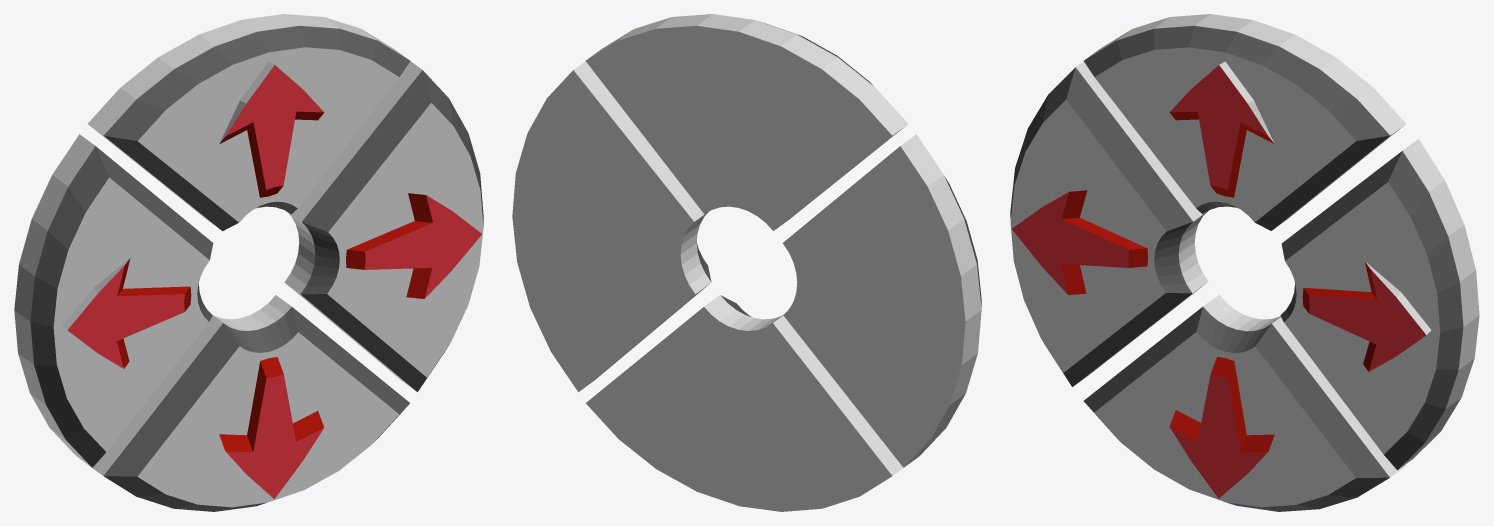
The model's file is Direction_red.fbx.
3 views of the same model, side by side, from view 1: azimuth 30°, elevation 25°; view 2: azimuth 150°, elevation 25°; view 3: azimuth 330°, elevation 25° (orthographic).
Visible parts, largest first — view 1: 平面; view 2: 平面; view 3: 平面.
Boxes of the visible parts, box(x1,y1,x2,y2) form: 平面: box(14, 14, 483, 511); 平面: box(512, 14, 981, 511); 平面: box(1010, 14, 1479, 511).
Size of the model in its own units: 286 by 286 by 37.07.
